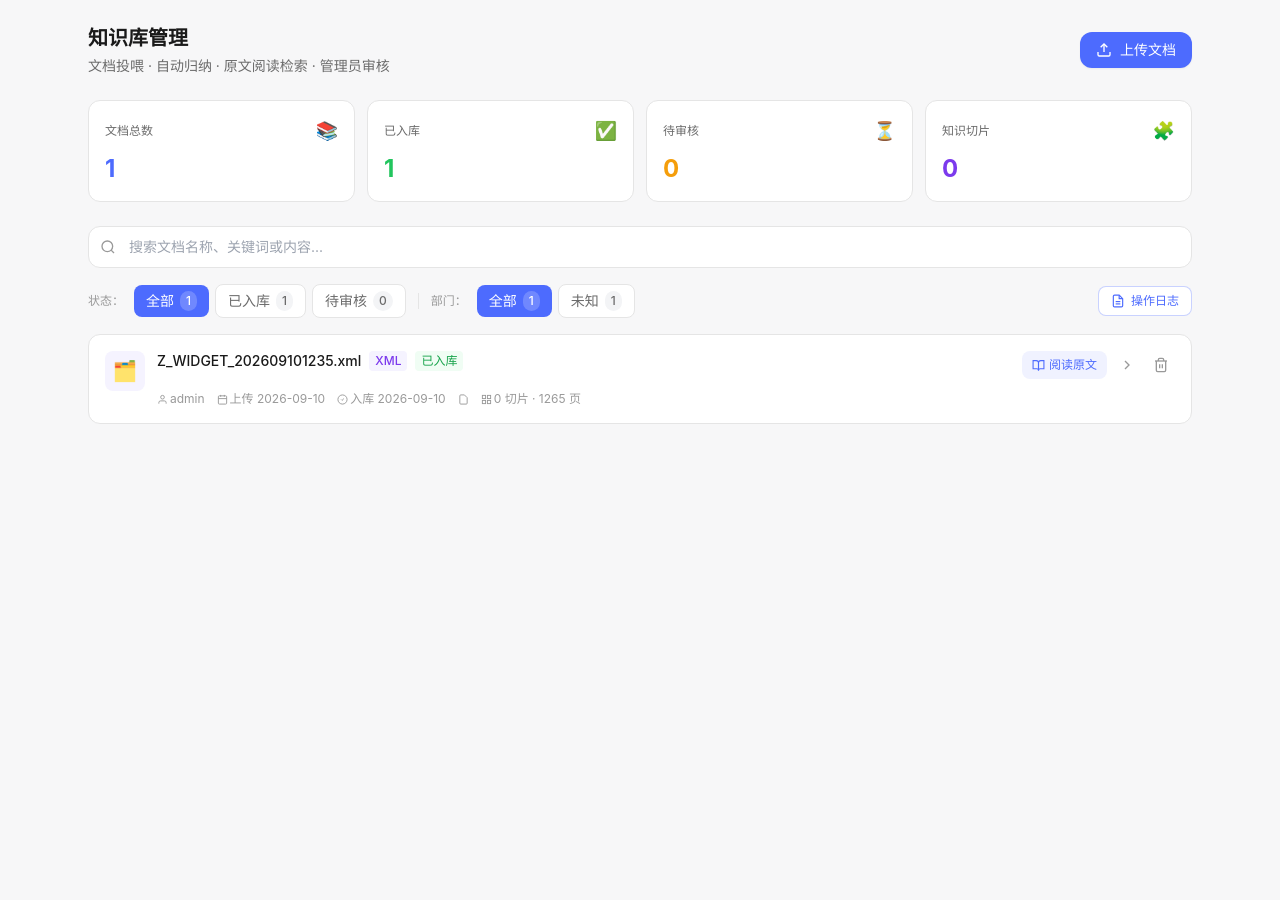
it: KnowledgeBase › 超大 XML 文档：直接点卡片「阅读原文」会按需补全正文，不再白板
// 不打开详情弹窗，直接点列表卡片上的「阅读原文」
What coordinates should you click on to do the following:
click the button "阅读原文"
I would click on:
 (1064, 365)
Its box is left=1022, top=351, right=1107, bottom=379.
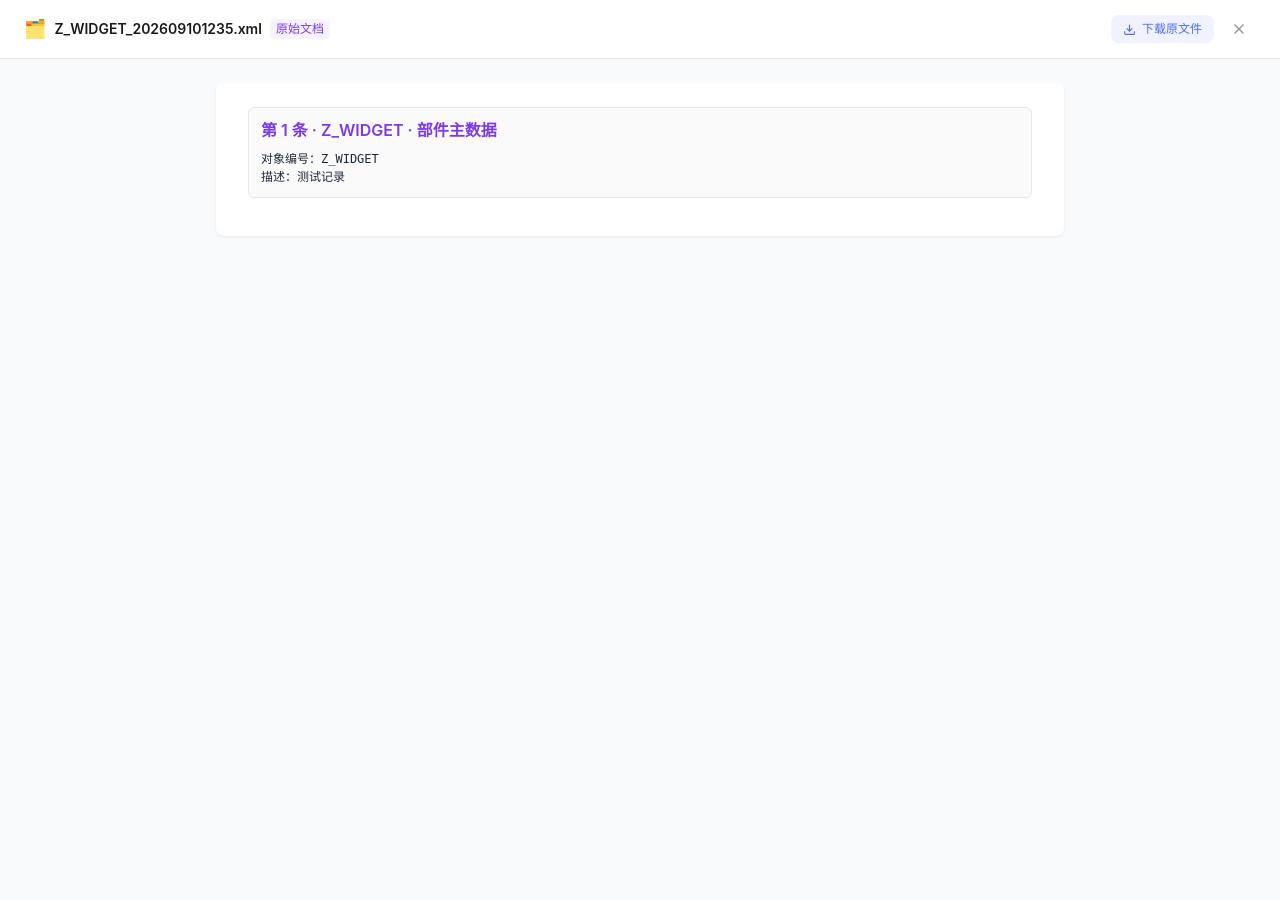
Check: the text "第 1 条 · Z_WIDGET · 部件主数据" is shown, box left=261, top=120, right=497, bottom=140
